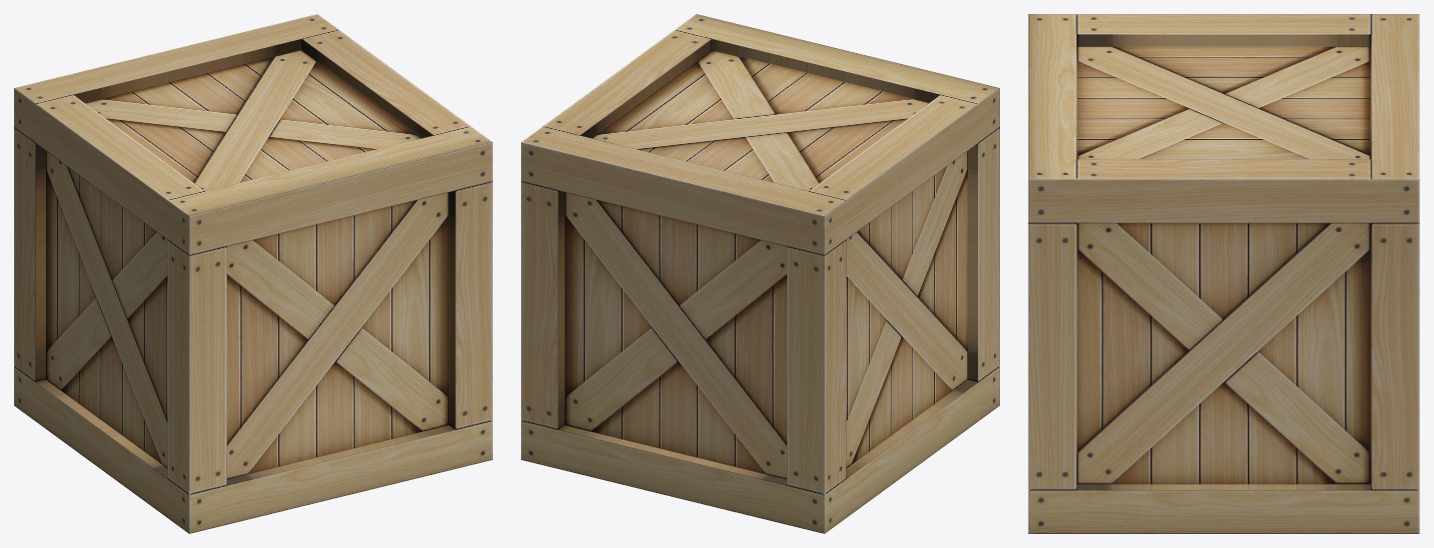
Rendered from cajaProfunda.fbx.
3 views of the same model, side by side, from view 1: azimuth 30°, elevation 25°; view 2: azimuth 150°, elevation 25°; view 3: azimuth 270°, elevation 25° (orthographic). The views are drawn at different scales.
Parts seen in each view (by area): view 1: Caja; view 2: Caja; view 3: Caja.
Boxes of the visible parts, x1,y1,x2,y2 form: Caja: (14,14,492,533); Caja: (521,14,999,533); Caja: (1028,14,1419,533).
Size of the model in its own units: 200 by 200 by 200.
1 material, 1 textured.
